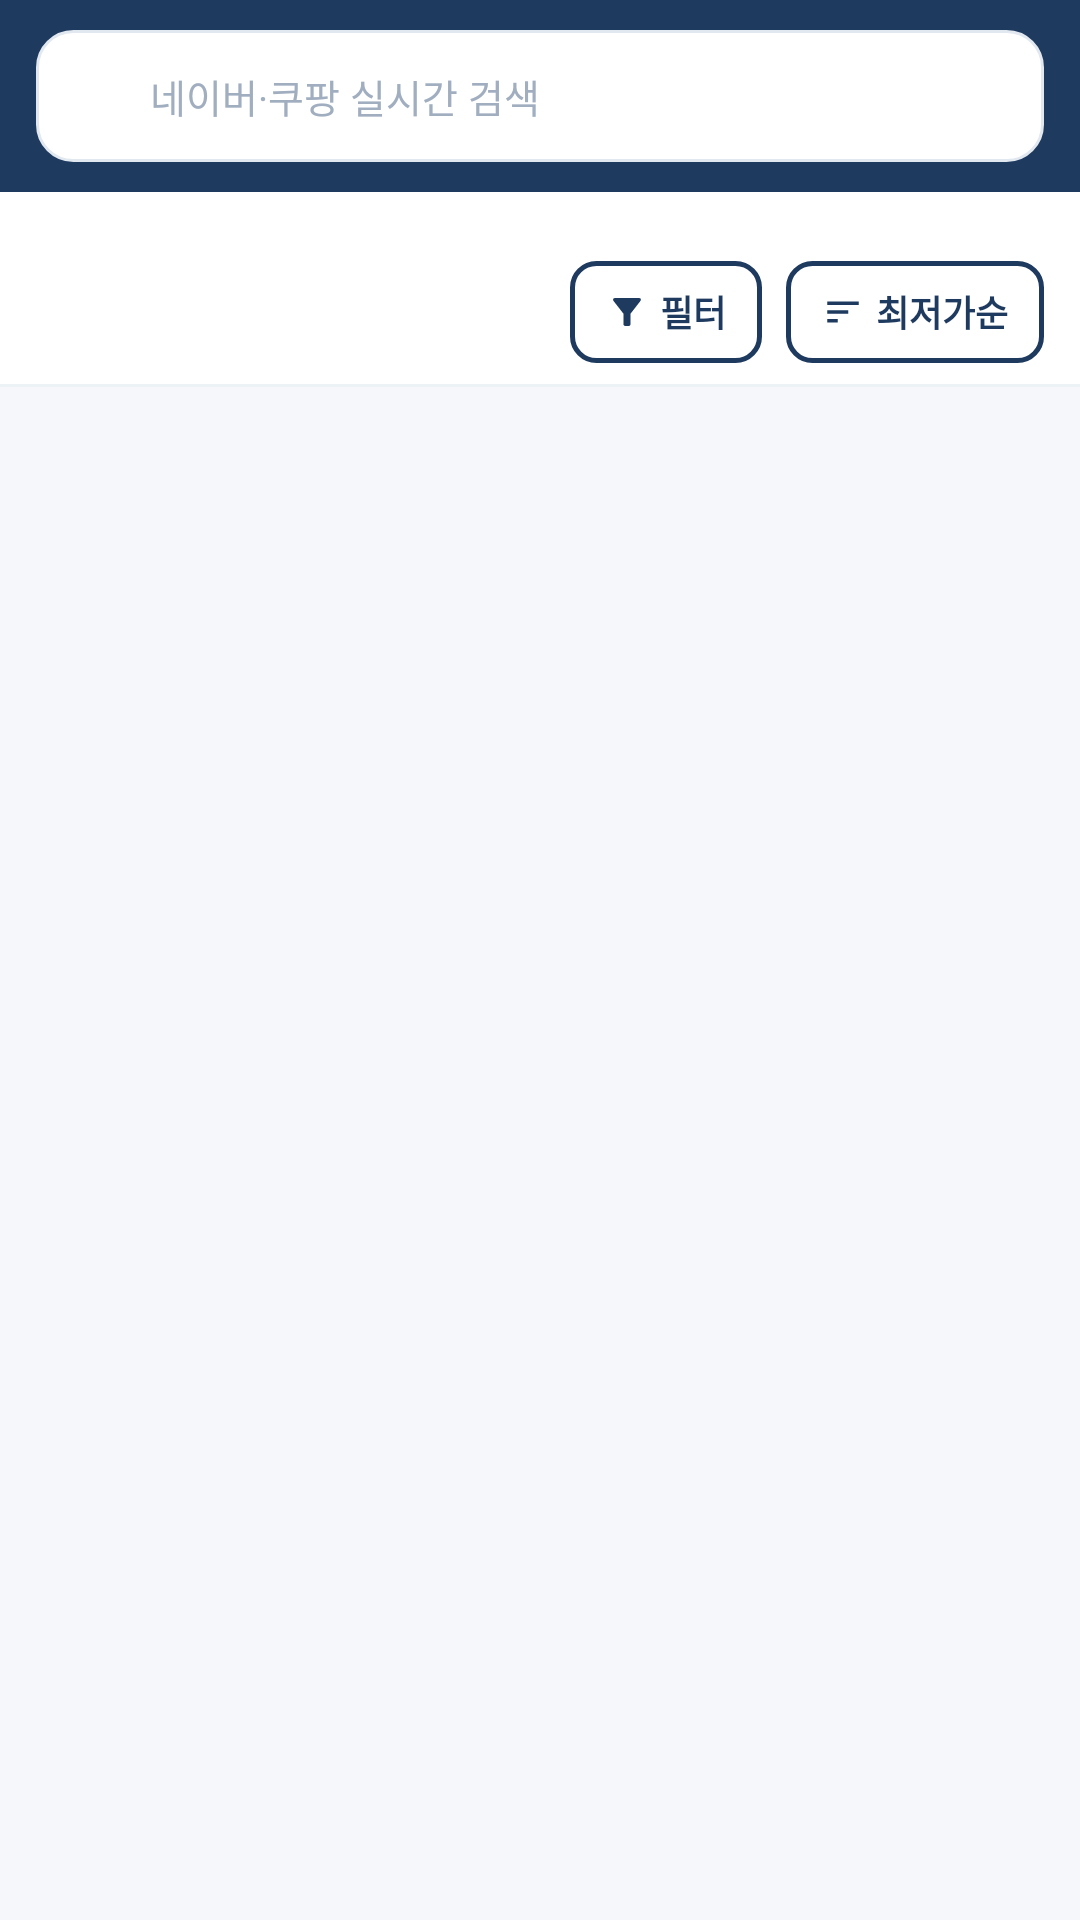

Named icons in this screenshot (1080 × 1920) and their bounding boxes, (x1, y1, x2, y2):
sort: (827, 301, 859, 323)
